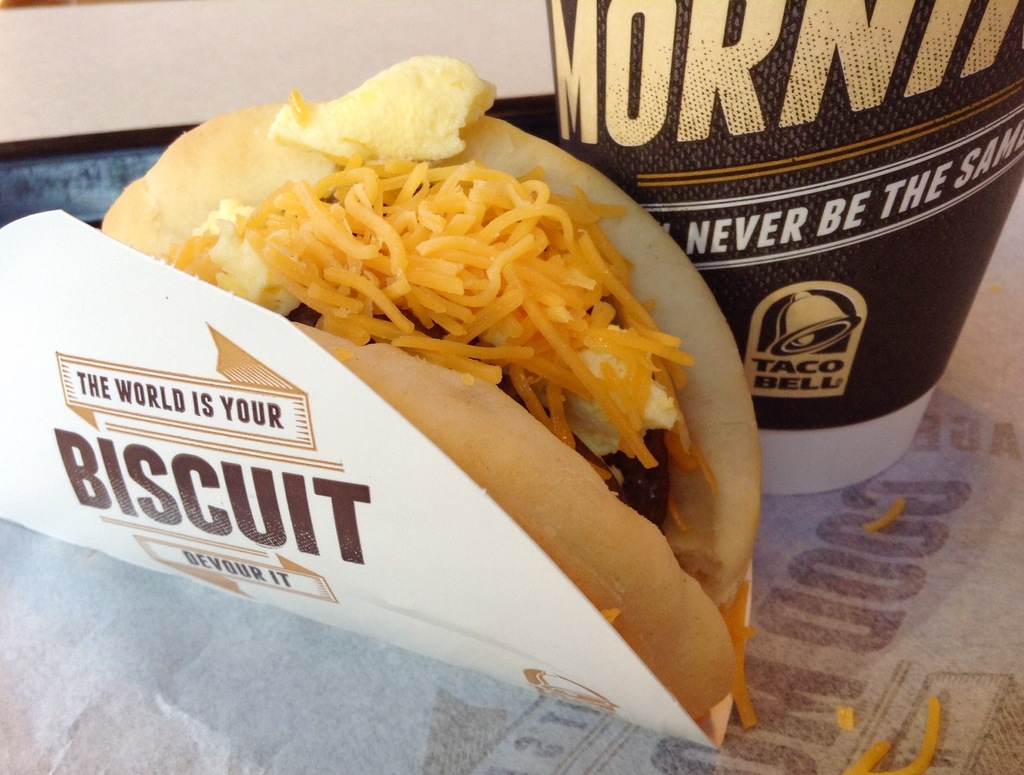French fries: (182, 85, 687, 485)
